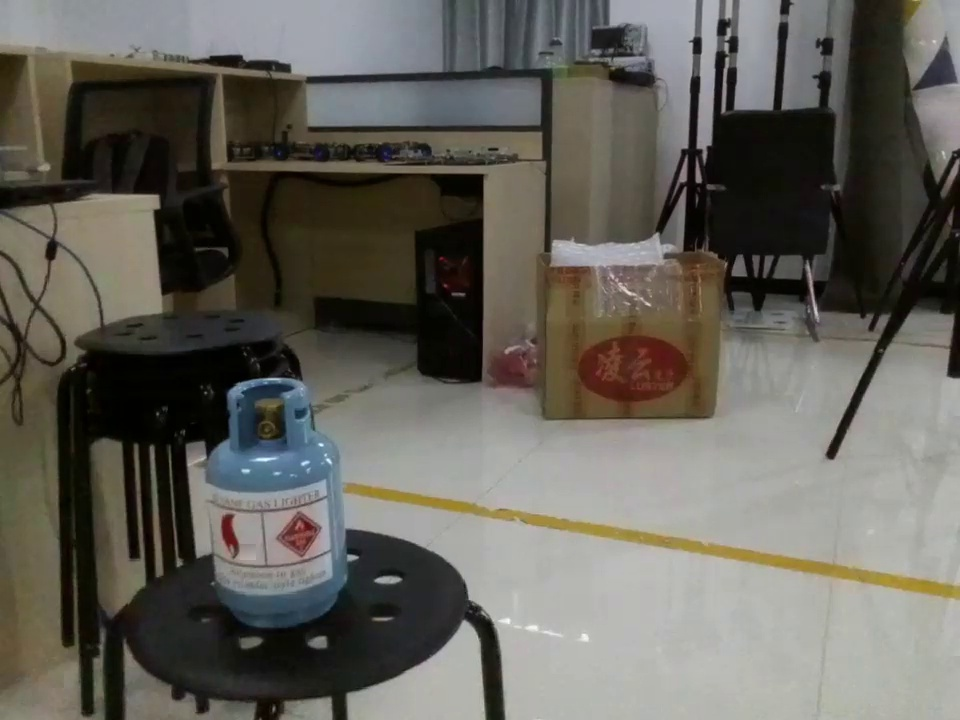gas tank: (195, 369, 363, 638)
